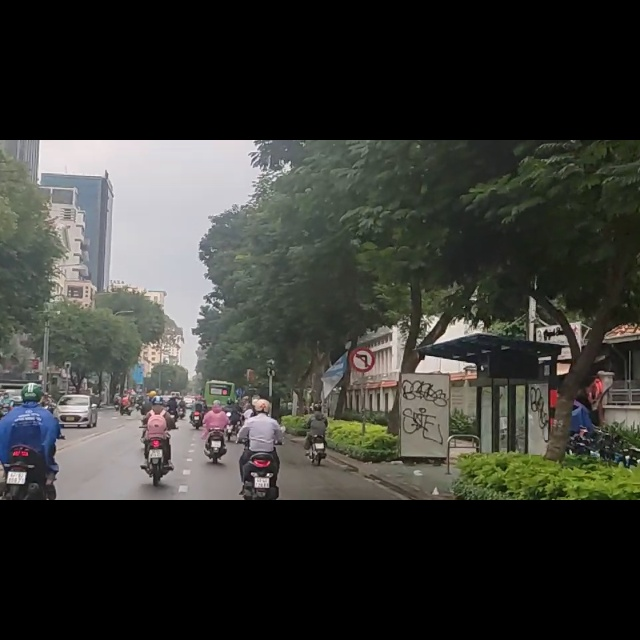bien_cam: (351, 369, 374, 410)
